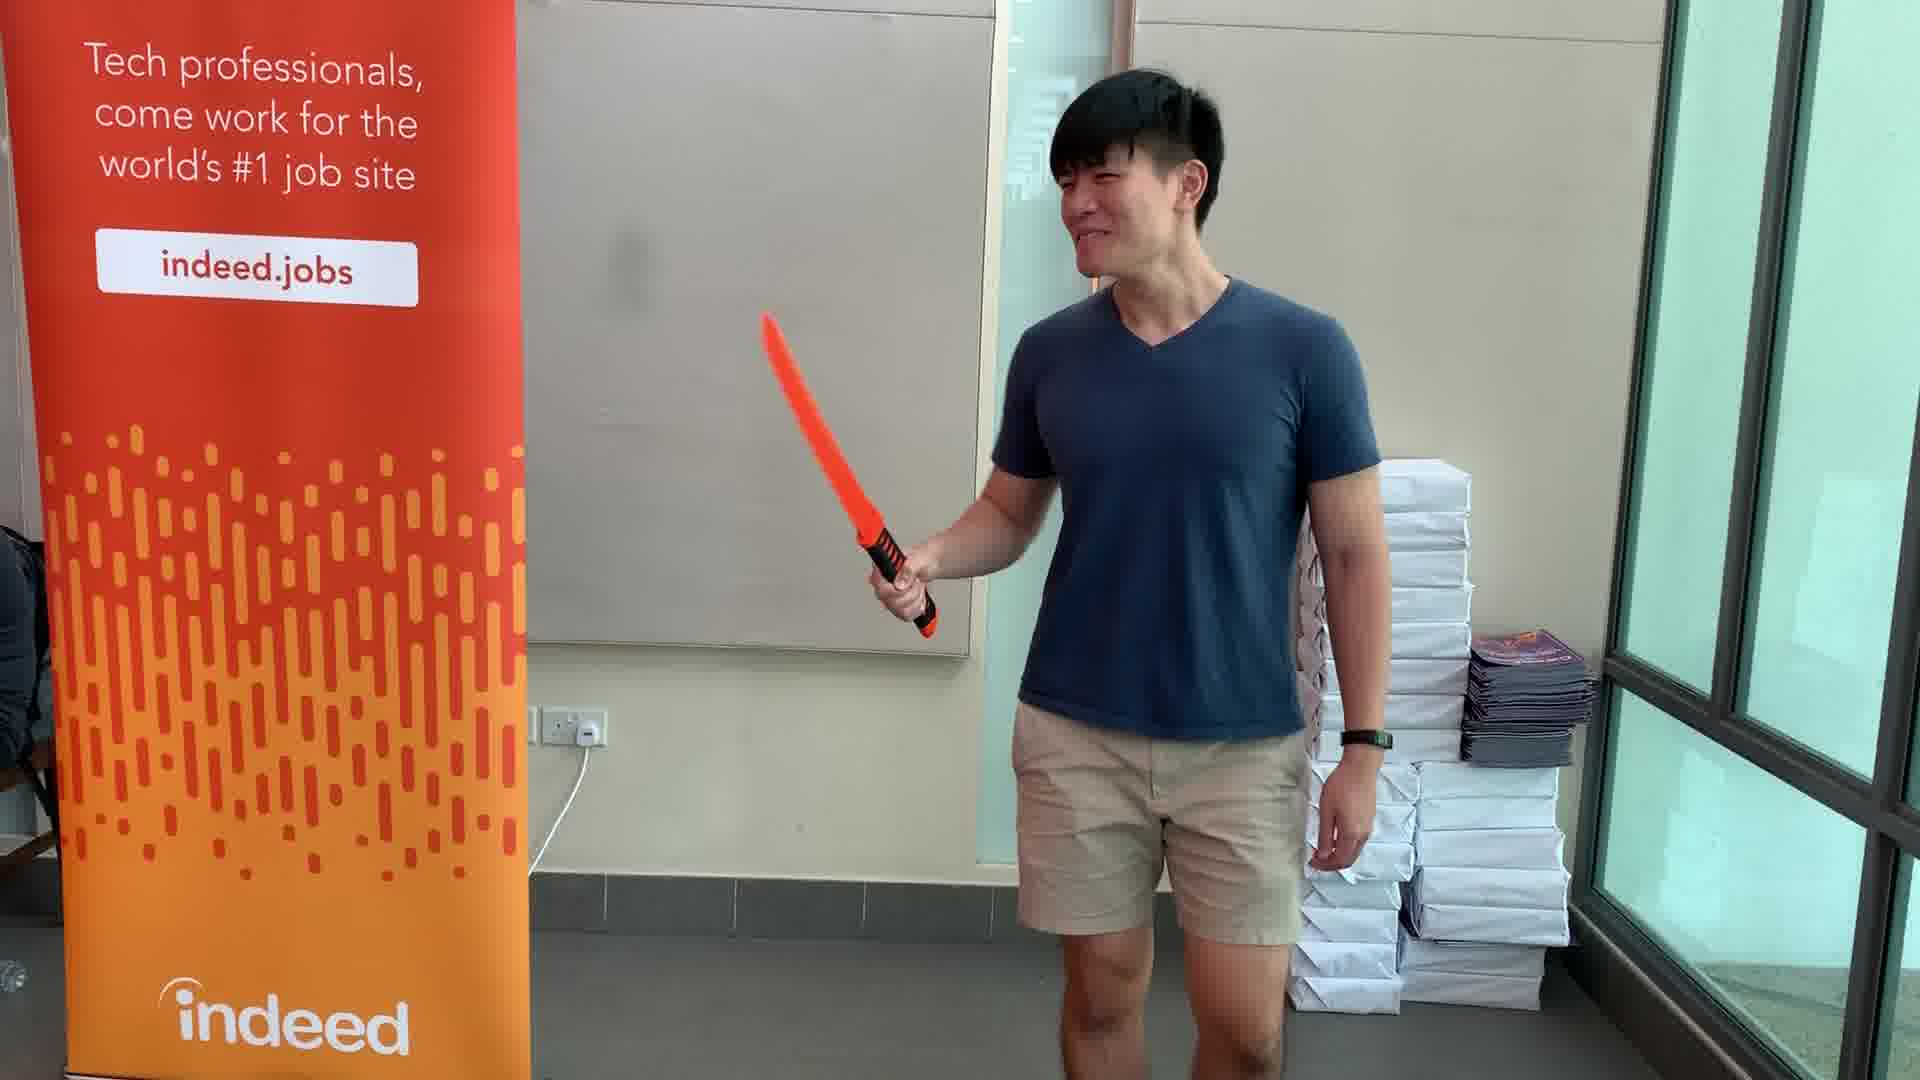knife: (756, 305, 957, 655)
